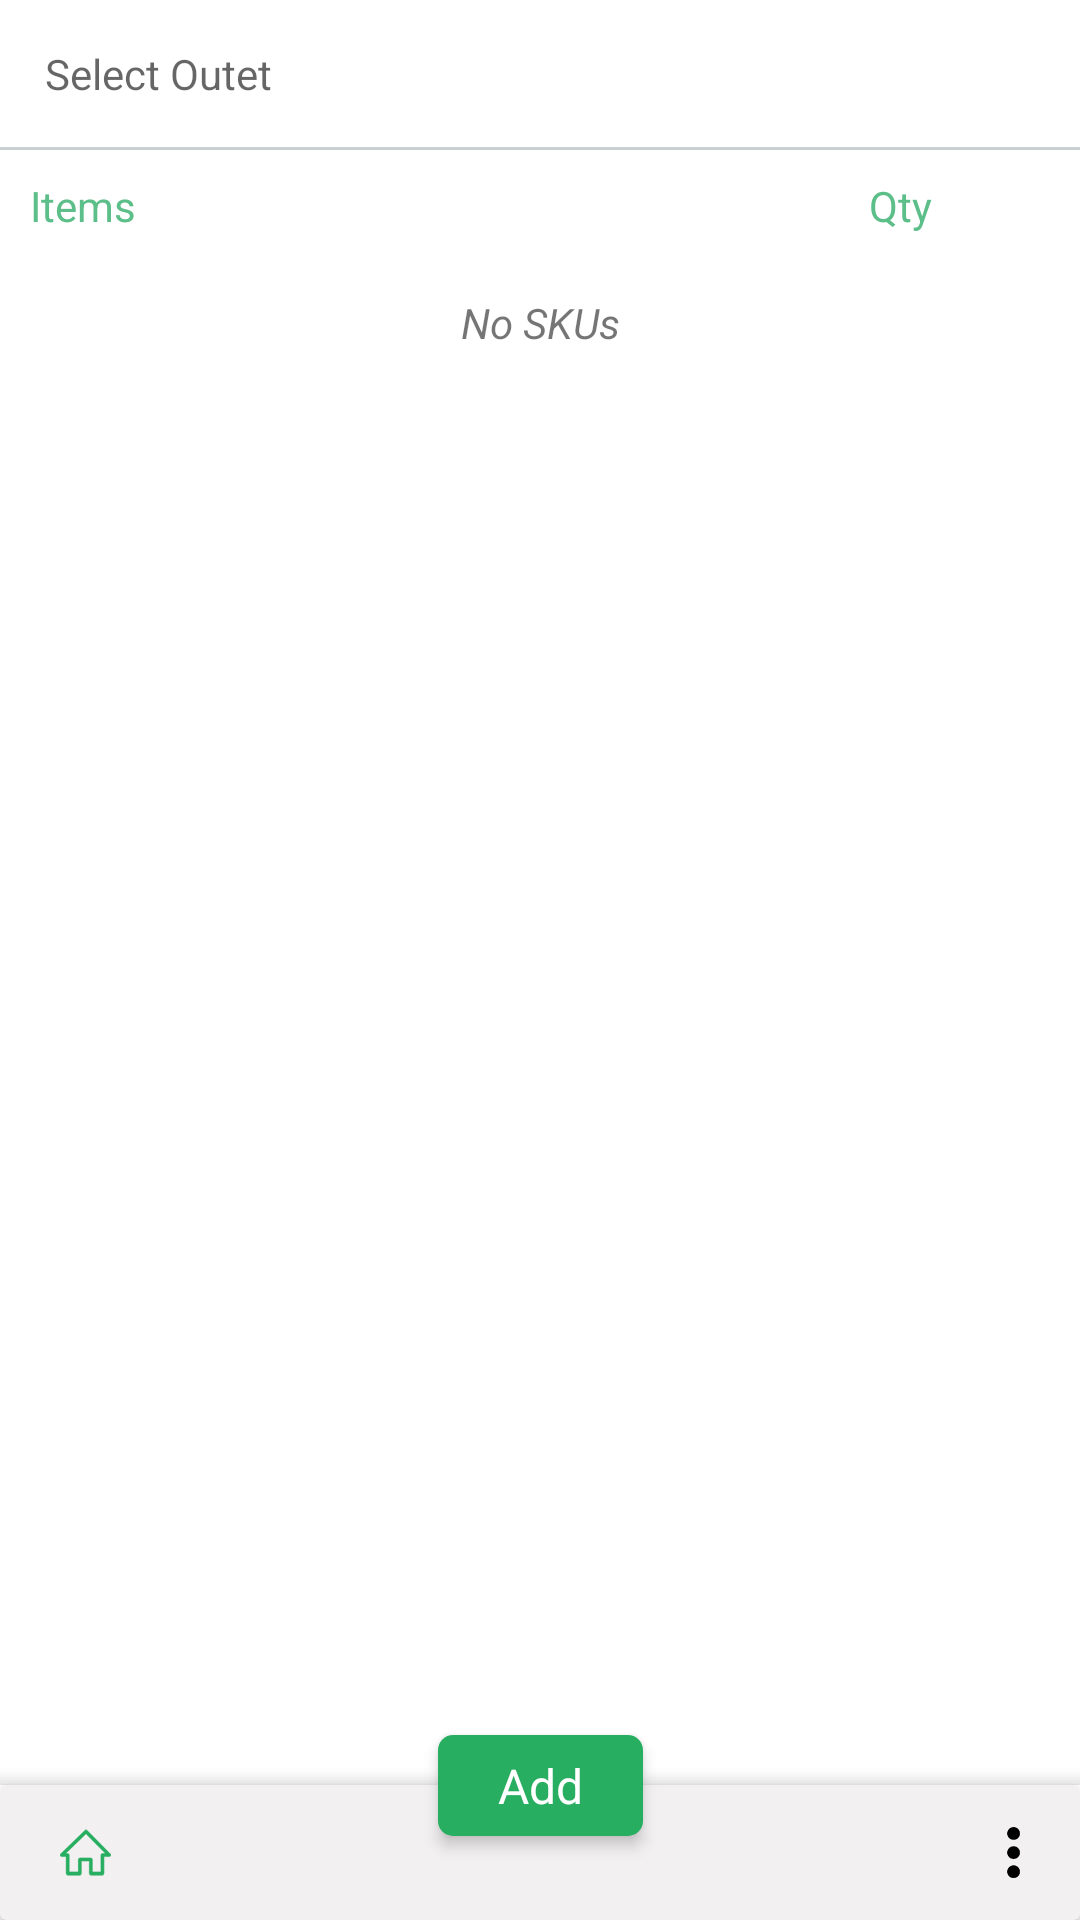

Named icons in this screenshot (1080×1920) and their centers, [x,y]:
home: [85,1852]
overflow: [1013,1852]
